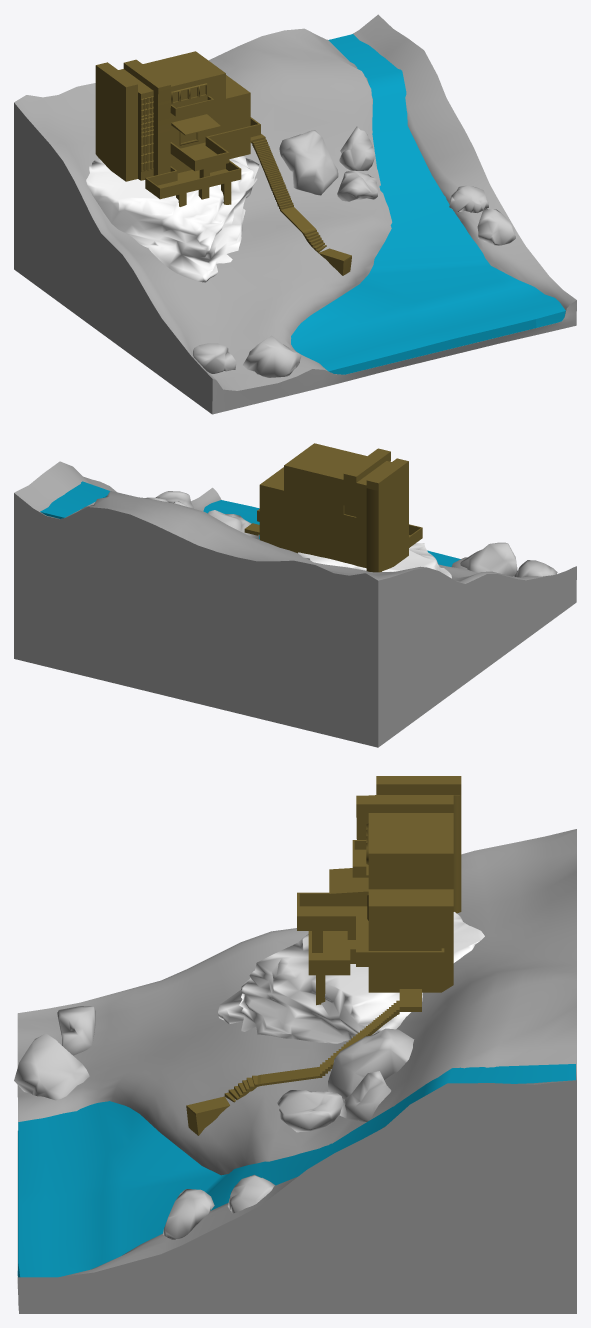
File: diorama_low.glb
The picture shows the model from 3 angles, top to bottom: view 1: azimuth 30°, elevation 25°; view 2: azimuth 150°, elevation 25°; view 3: azimuth 270°, elevation 25°; orthographic projection. The views are drawn at different scales.
Visible parts, largest first — view 1: landscape_low, water_low, house_low, rocks_low; view 2: landscape_low, house_low, rocks_low, water_low; view 3: landscape_low, house_low, water_low, rocks_low.
Part boxes in pixels (bbox=[...]): landscape_low: bbox=[14, 14, 576, 414]; water_low: bbox=[291, 34, 565, 374]; house_low: bbox=[95, 51, 351, 275]; rocks_low: bbox=[86, 126, 515, 377]; landscape_low: bbox=[14, 461, 576, 747]; house_low: bbox=[244, 443, 422, 572]; rocks_low: bbox=[146, 491, 557, 578]; water_low: bbox=[40, 481, 460, 566]; landscape_low: bbox=[17, 829, 576, 1313]; house_low: bbox=[186, 776, 461, 1135]; water_low: bbox=[17, 1064, 575, 1277]; rocks_low: bbox=[14, 912, 484, 1239].
Bounding box in the file's own units: 8.72 × 5.13 × 8.29.
